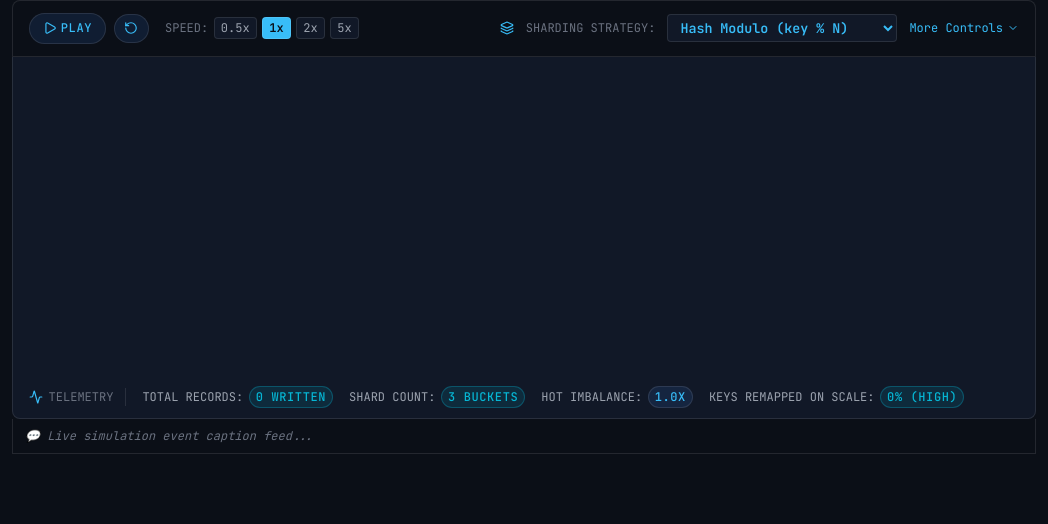
Test: ShardingVisualizer (Catalog #4) › allows toggling hot key traffic mode
The width and height of the screenshot is (1048, 524).
# Expand controls
Click the button "More Controls".
click(964, 28)  # box [909,20,1019,36]
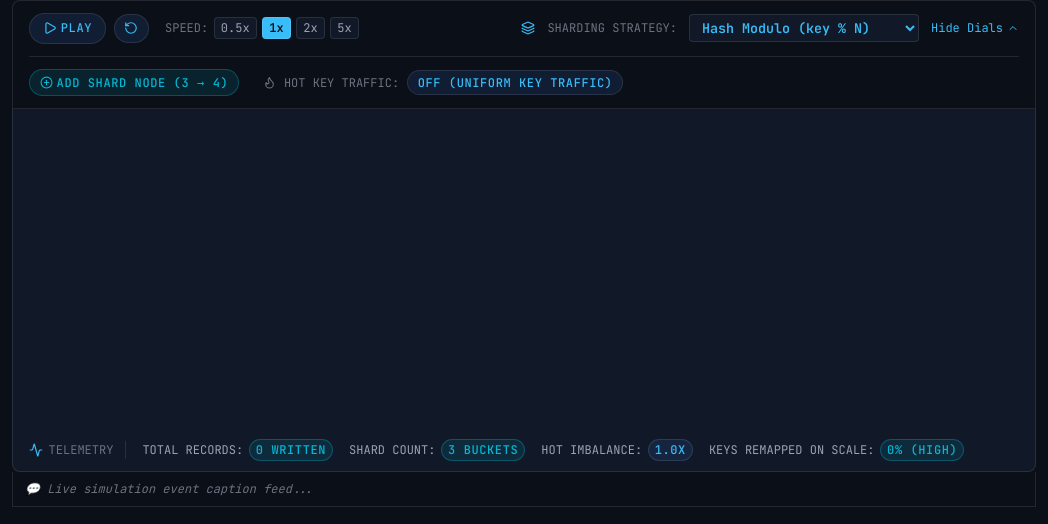
Click the button "OFF (Uniform Key Traffic)".
click(515, 83)  # box [407,70,623,95]
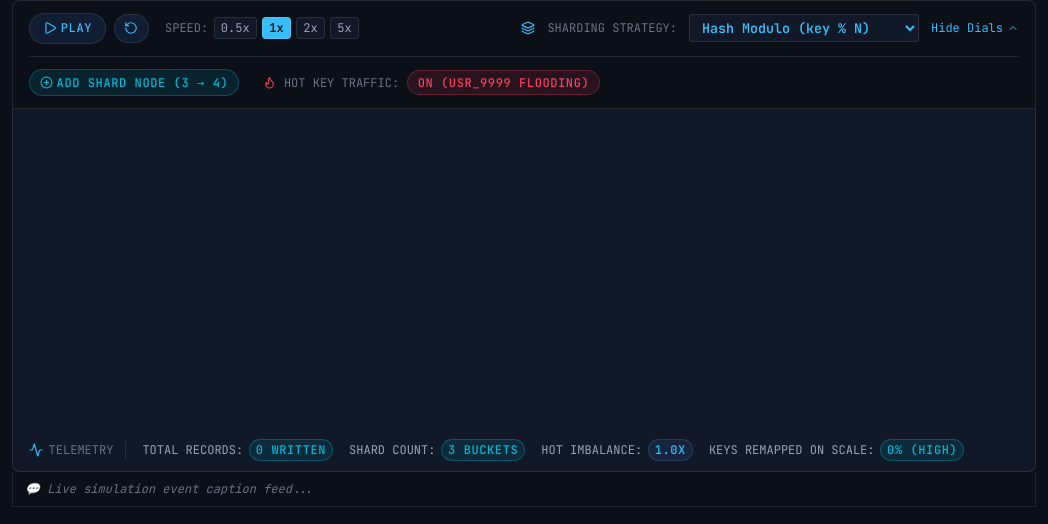
Expected: the button "ON (usr_9999 Flooding)" is shown, [407,70,600,95]
